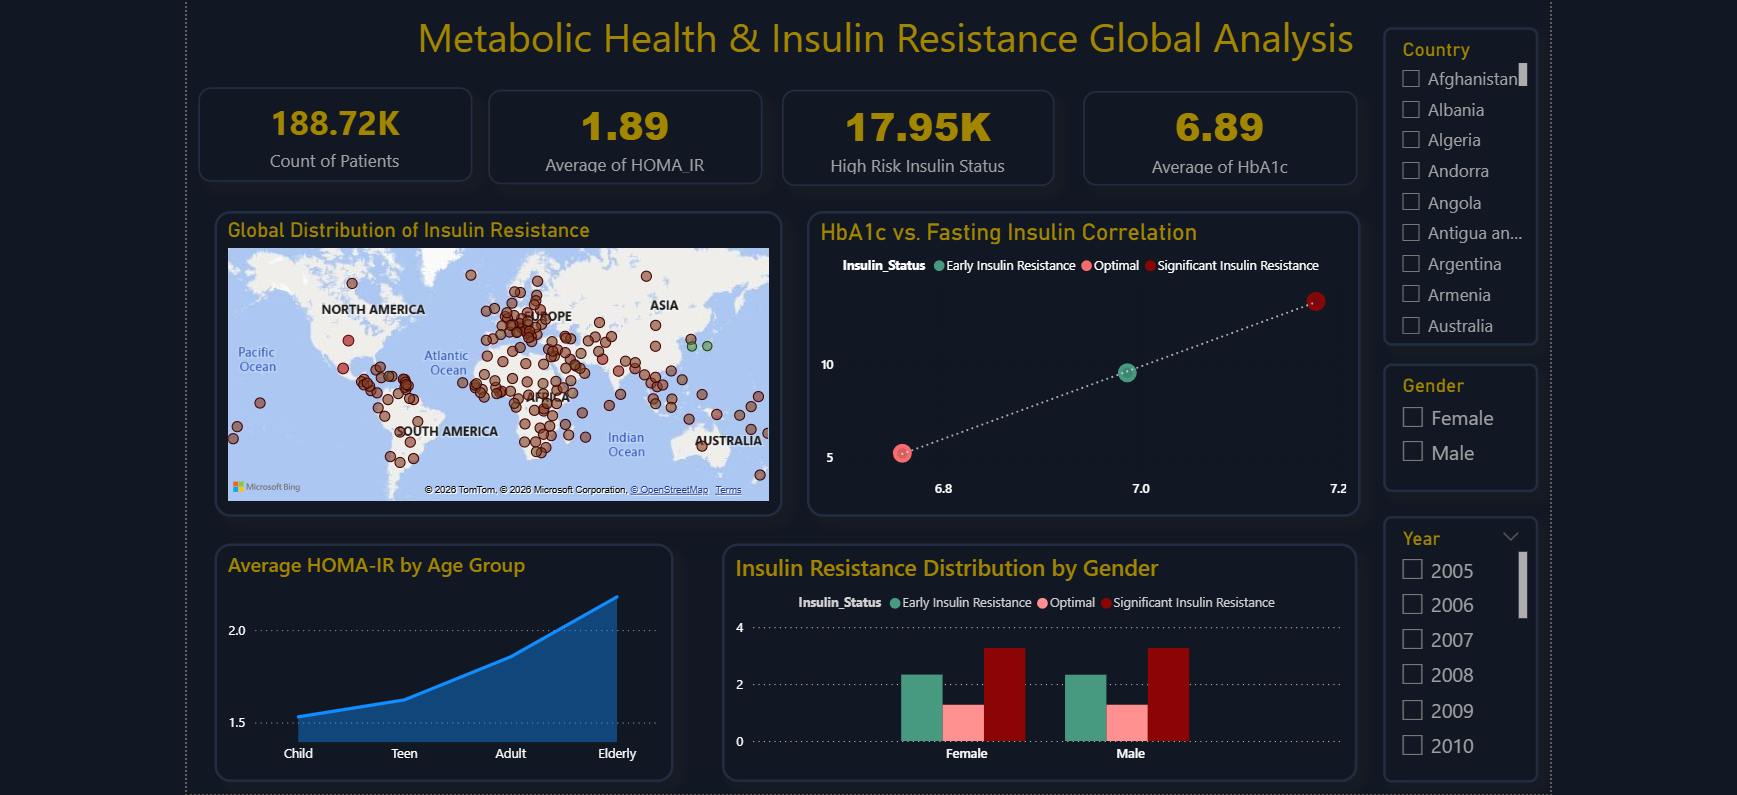

The page's visual inventory and layout, read from the dashboard file:
{"tool":"powerbi","page":{"name":"Page 1","canvas":[1280,750],"ordinal":0},"visuals":[{"type":"card","fields":{"Values":["CountNonNull(Global_Insulin_Final_Cleaned.ID)"]},"box":[10.8,86.3,257.4,88.9],"z":0},{"type":"textbox","box":[10.7,8.2,1258.6,65.7],"z":1000},{"type":"card","fields":{"Values":["Avg(Global_Insulin_Final_Cleaned.HOMA_IR)"]},"box":[283,87.6,257.4,88.9],"z":2000},{"type":"card","fields":{"Values":["CountNonNull(Global_Insulin_Final_Cleaned.Insulin_Status)"]},"box":[559.3,87.6,256.1,90.3],"z":3000},{"type":"card","fields":{"Values":["Avg(Global_Insulin_Final_Cleaned.HbA1c)"]},"box":[842.3,88.9,257.4,88.9],"z":4000},{"type":"map","title":"Global Distribution of Insulin Resistance","fields":{"Category":["Global_Insulin_Final_Cleaned.Country"],"Size":["Sum(Global_Insulin_Final_Cleaned.HOMA_IR)"]},"box":[25.6,202.1,533.7,287.1],"z":5000},{"type":"scatterChart","title":"HbA1c vs. Fasting Insulin Correlation","fields":{"X":["Avg(Global_Insulin_Final_Cleaned.HbA1c)"],"Y":["Avg(Global_Insulin_Final_Cleaned.Fasting_Insulin)"],"Series":["Global_Insulin_Final_Cleaned.Insulin_Status"]},"box":[582.2,202.1,520.2,287.1],"z":6000},{"type":"areaChart","title":"Average HOMA-IR by Age Group","fields":{"Y":["Avg(Global_Insulin_Final_Cleaned.HOMA_IR)"],"Category":["Global_Insulin_Final_Cleaned.Age_Group"]},"box":[25.6,514.8,431.3,223.7],"z":7000},{"type":"slicer","fields":{"Values":["Global_Insulin_Final_Cleaned.Country"]},"box":[1123.6,29.4,145.6,299.4],"z":8000},{"type":"slicer","fields":{"Values":["Global_Insulin_Final_Cleaned.Gender"]},"box":[1123.6,345.2,145.6,120.9],"z":9000},{"type":"slicer","fields":{"Values":["Global_Insulin_Final_Cleaned.Year"]},"box":[1123.6,488.4,145.6,250.1],"z":10000},{"type":"clusteredColumnChart","title":"Insulin Resistance Distribution by Gender","fields":{"Category":["Global_Insulin_Final_Cleaned.Gender"],"Y":["Avg(Global_Insulin_Final_Cleaned.HOMA_IR)"],"Series":["Global_Insulin_Final_Cleaned.Insulin_Status"]},"box":[502.7,514.8,597,223.7],"z":11000}]}

Visuals, with their boxes on the page's 1280x750 design canvas (x1, y1, x2, y2). These are canvas units, not pixel positions in the 1737x795 screenshot, which may show the page scaled, cropped or inside an application window:
card - CountNonNull(Global_Insulin_Final_Cleaned.ID): <bbox>11, 86, 268, 175</bbox>
textbox: <bbox>11, 8, 1269, 74</bbox>
card - Avg(Global_Insulin_Final_Cleaned.HOMA_IR): <bbox>283, 88, 540, 176</bbox>
card - CountNonNull(Global_Insulin_Final_Cleaned.Insulin_Status): <bbox>559, 88, 815, 178</bbox>
card - Avg(Global_Insulin_Final_Cleaned.HbA1c): <bbox>842, 89, 1100, 178</bbox>
"Global Distribution of Insulin Resistance" map: <bbox>26, 202, 559, 489</bbox>
"HbA1c vs. Fasting Insulin Correlation" scatterChart: <bbox>582, 202, 1102, 489</bbox>
"Average HOMA-IR by Age Group" areaChart: <bbox>26, 515, 457, 738</bbox>
slicer - Global_Insulin_Final_Cleaned.Country: <bbox>1124, 29, 1269, 329</bbox>
slicer - Global_Insulin_Final_Cleaned.Gender: <bbox>1124, 345, 1269, 466</bbox>
slicer - Global_Insulin_Final_Cleaned.Year: <bbox>1124, 488, 1269, 738</bbox>
"Insulin Resistance Distribution by Gender" clusteredColumnChart: <bbox>503, 515, 1100, 738</bbox>
